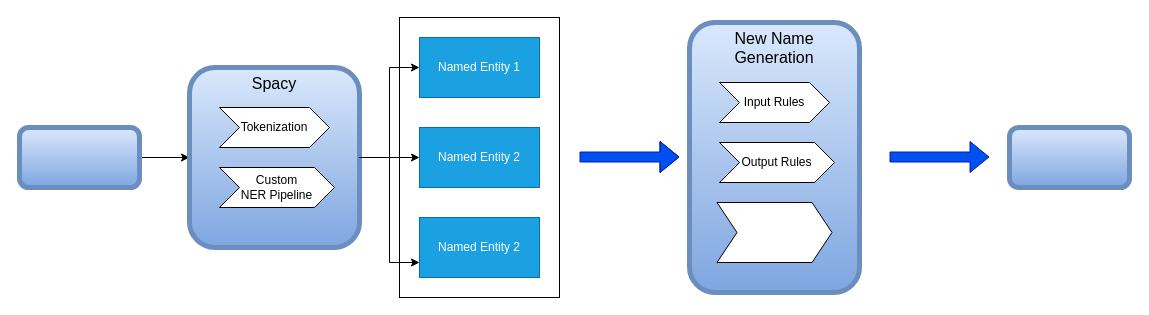
This 1149x315 diagram has some shape labels left out. The centre of each missing label's shape, as x and y in pixels:
"Generate name using file name pattern" goes at pixel 774 232.
"Input File Names" goes at pixel 79 157.
"Output File Names" goes at pixel 1069 157.
